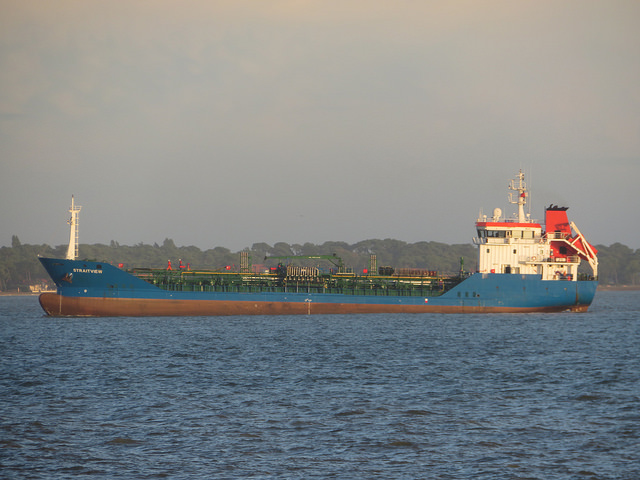tanker: (37, 180, 601, 316)
